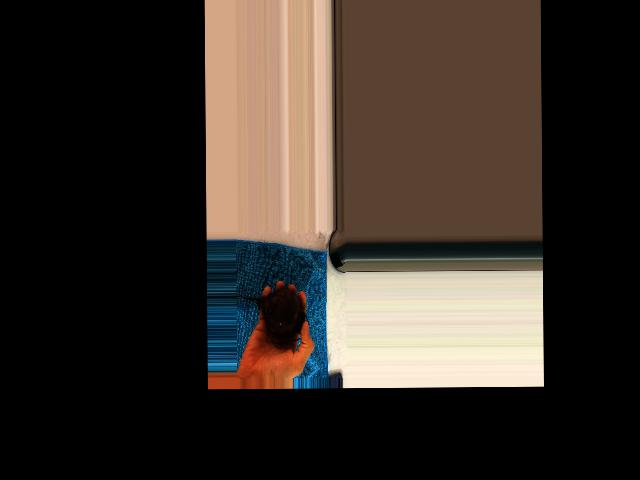beet: (235, 287, 308, 344)
